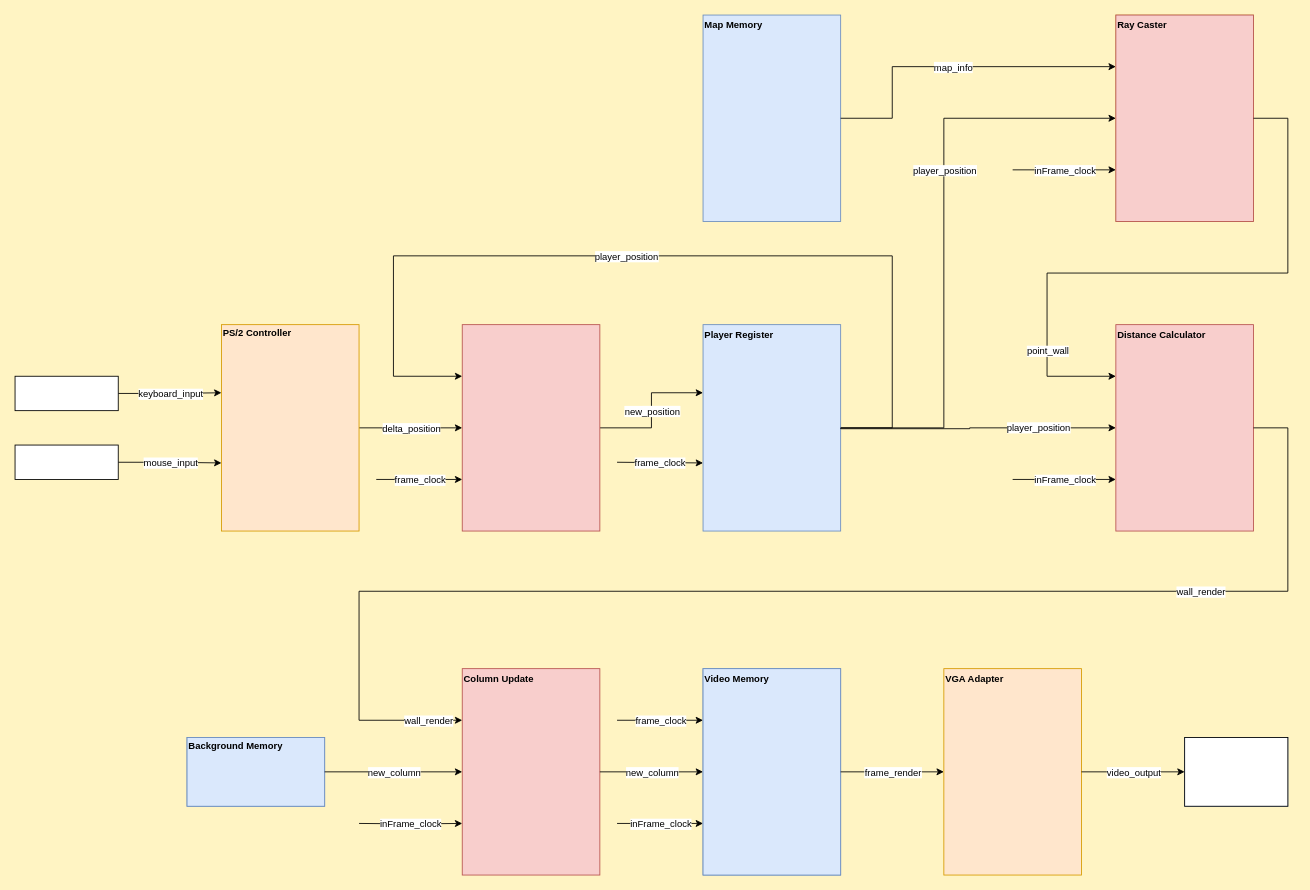
The diagram is 1310 pixels wide and 890 high, and some of its shapes have lost their labels. Each missing label, with the centre of its shape:
Display: (1236,771)
Keyboard: (66,393)
Mouse: (66,461)
Player Update: (530,427)
